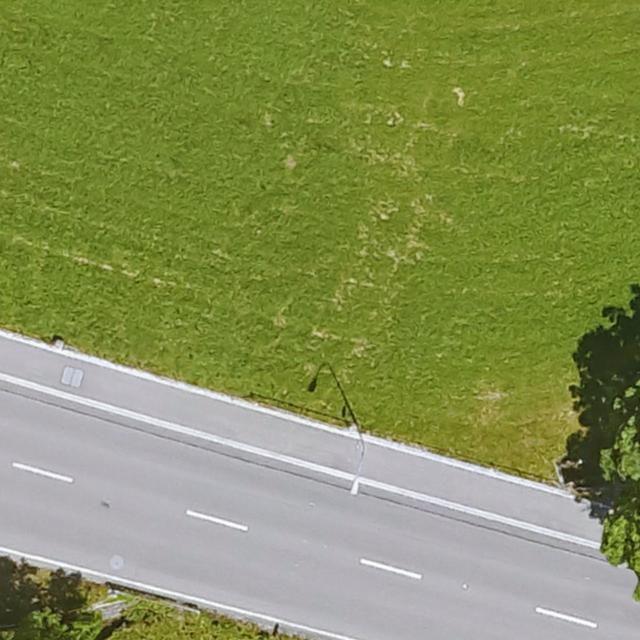tree: (601, 416, 640, 617), (0, 606, 103, 640)
